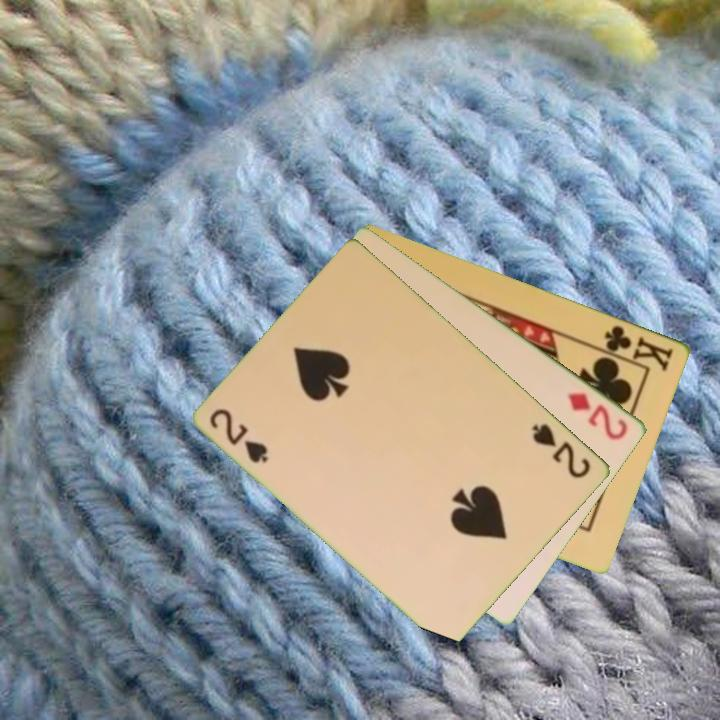2d: (564, 388, 632, 443)
2s: (206, 405, 272, 466), (529, 420, 594, 481)
Kc: (592, 321, 677, 374)
